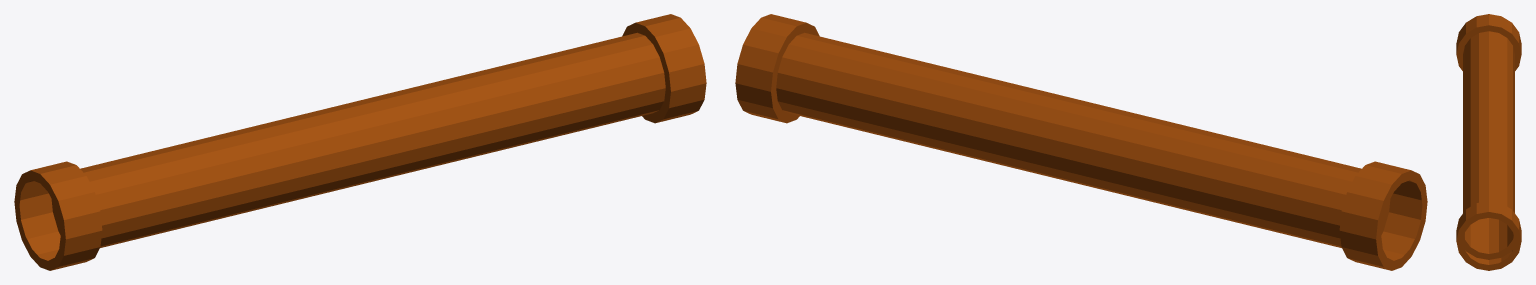
The model's file is Pipe1.fbx.
The picture shows the model from 3 angles, left to right: view 1: azimuth 30°, elevation 25°; view 2: azimuth 150°, elevation 25°; view 3: azimuth 270°, elevation 25°; orthographic projection. The views are drawn at different scales.
Parts seen in each view (by area): view 1: Plane; view 2: Plane; view 3: Plane.
Part boxes in pixels (x1,y1,x2,y2): Plane: (14,14,706,270); Plane: (735,14,1427,270); Plane: (1456,14,1521,270).
Bounding box in the file's own units: 898 × 125 × 125.
